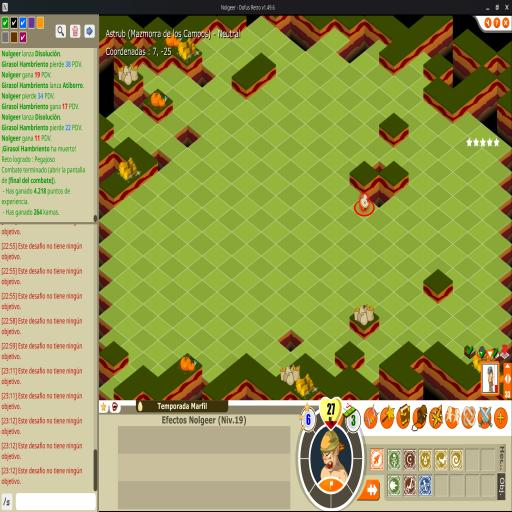Personaje: (354, 192, 375, 217)
